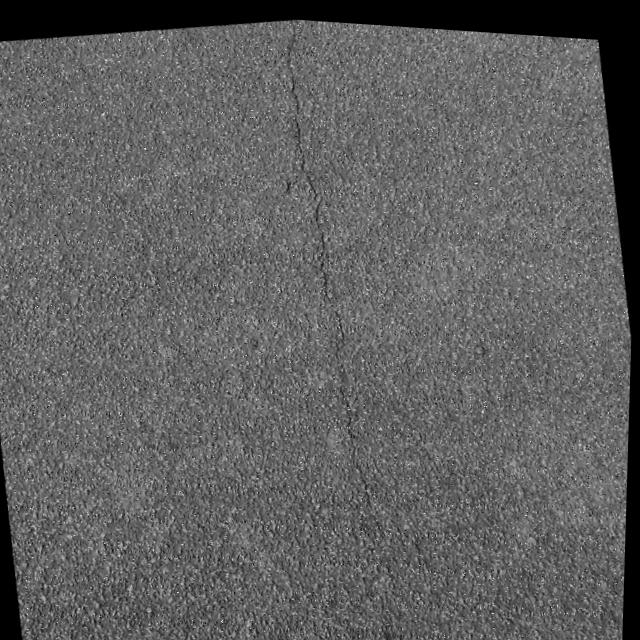Crack: (260, 14, 401, 555)
